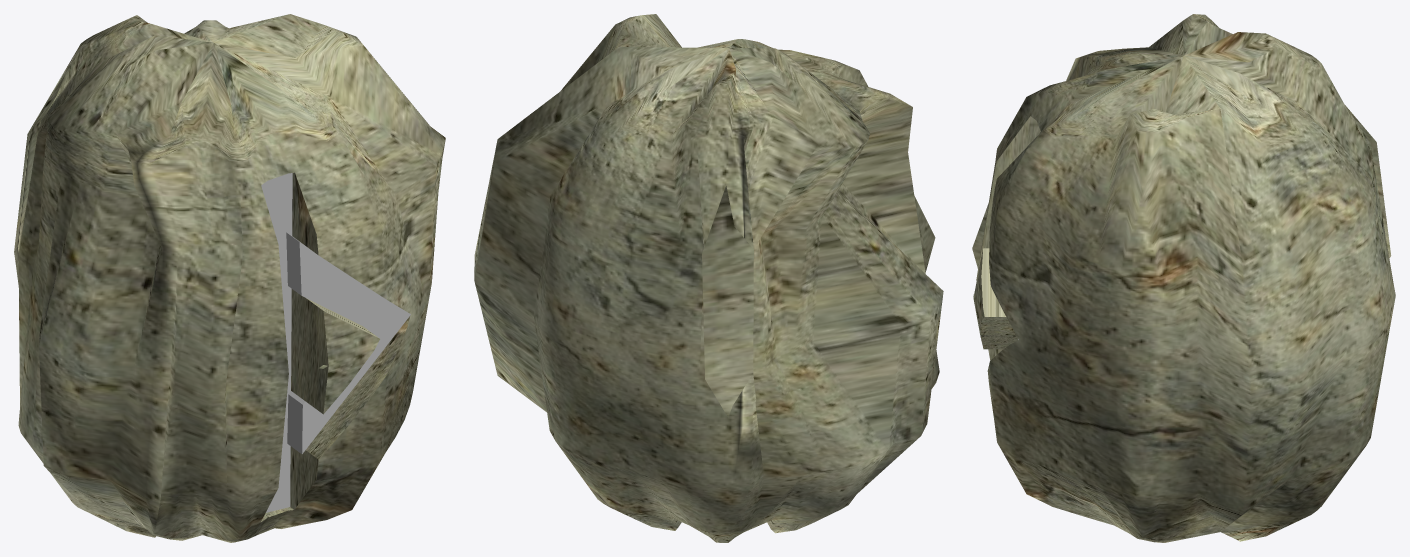
File: Rune.obj
The picture shows the model from 3 angles, left to right: view 1: azimuth 30°, elevation 25°; view 2: azimuth 150°, elevation 25°; view 3: azimuth 270°, elevation 25°; orthographic projection. The views are drawn at different scales.
Visible parts, largest first — view 1: pSphere3, pCube4, pCube3; view 2: pSphere3; view 3: pSphere3.
Part boxes in pixels (left/top/right/bottom): pSphere3: left=14, top=14, right=445, bottom=542; pCube4: left=286, top=232, right=410, bottom=453; pCube3: left=261, top=173, right=292, bottom=512; pSphere3: left=474, top=14, right=943, bottom=542; pSphere3: left=972, top=14, right=1395, bottom=542.
Size of the model in its own units: 4.96 by 5.66 by 4.44.
